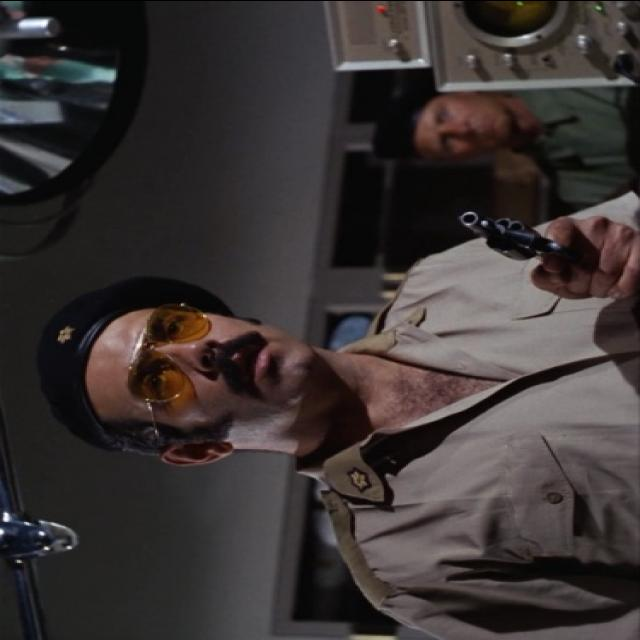weapons: (445, 200, 610, 300)
